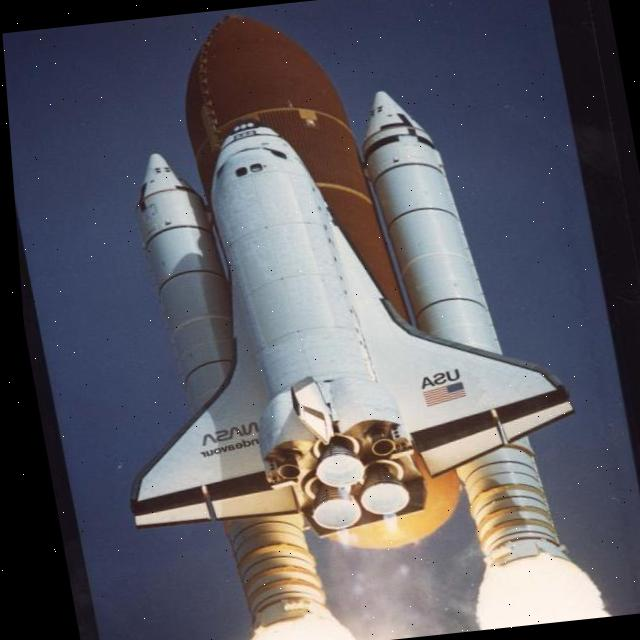missile: (31, 0, 600, 640)
